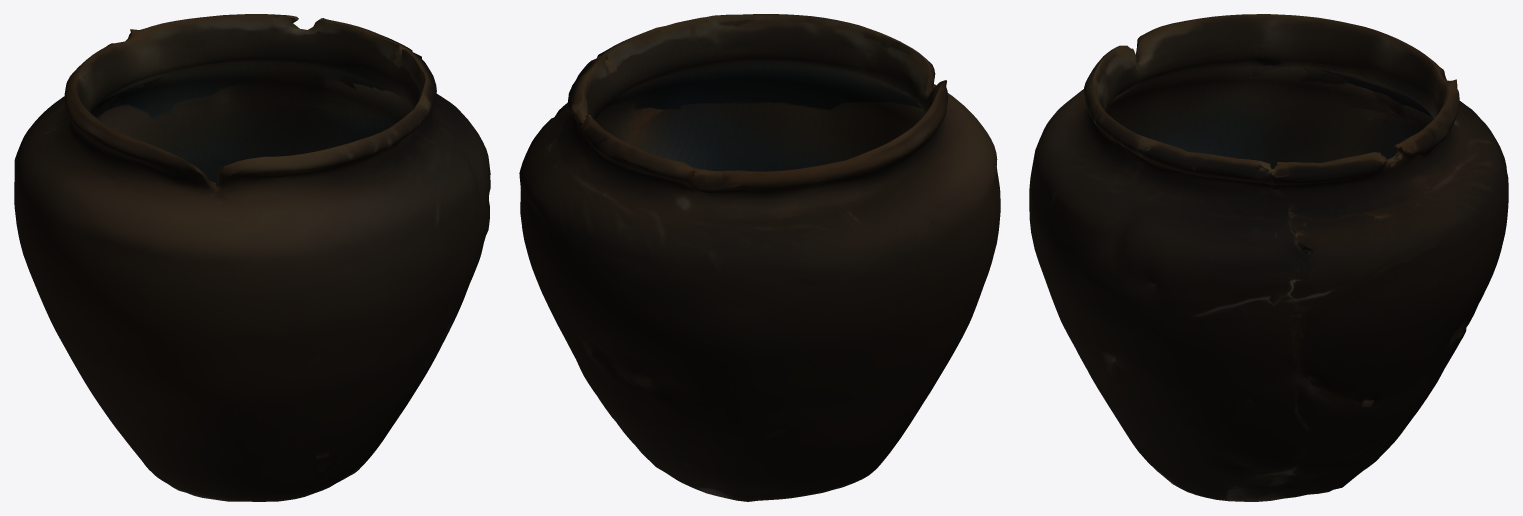
Rendered from 14. Керамический горшок.fbx.
The picture shows the model from 3 angles, left to right: view 1: azimuth 30°, elevation 25°; view 2: azimuth 150°, elevation 25°; view 3: azimuth 270°, elevation 25°; orthographic projection.
Visible parts, largest first — view 1: Default_remesh; view 2: Default_remesh; view 3: Default_remesh.
Part boxes in pixels (x1,y1,x2,y2): Default_remesh: [14, 14, 490, 501]; Default_remesh: [519, 14, 1000, 501]; Default_remesh: [1029, 14, 1508, 501].
Bounding box in the file's own units: 0.9974 × 0.8569 × 0.9952.
Materials: 1 (1 with a texture image).
